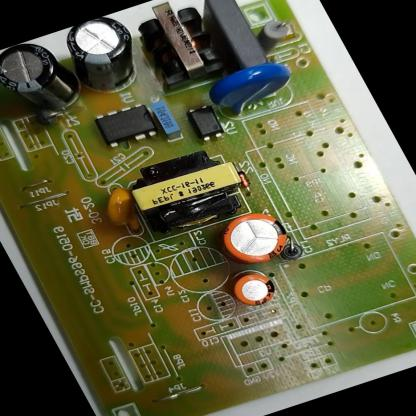Cap1: (214, 203, 301, 271)
Cap2: (227, 265, 284, 312)
Cap3: (54, 10, 160, 99)
Cap4: (0, 32, 92, 123)
MOSFET: (86, 96, 166, 153)
Mov: (199, 54, 306, 123)
Resistor: (245, 10, 300, 55)
Transformer: (118, 140, 260, 244), (122, 0, 237, 94)
